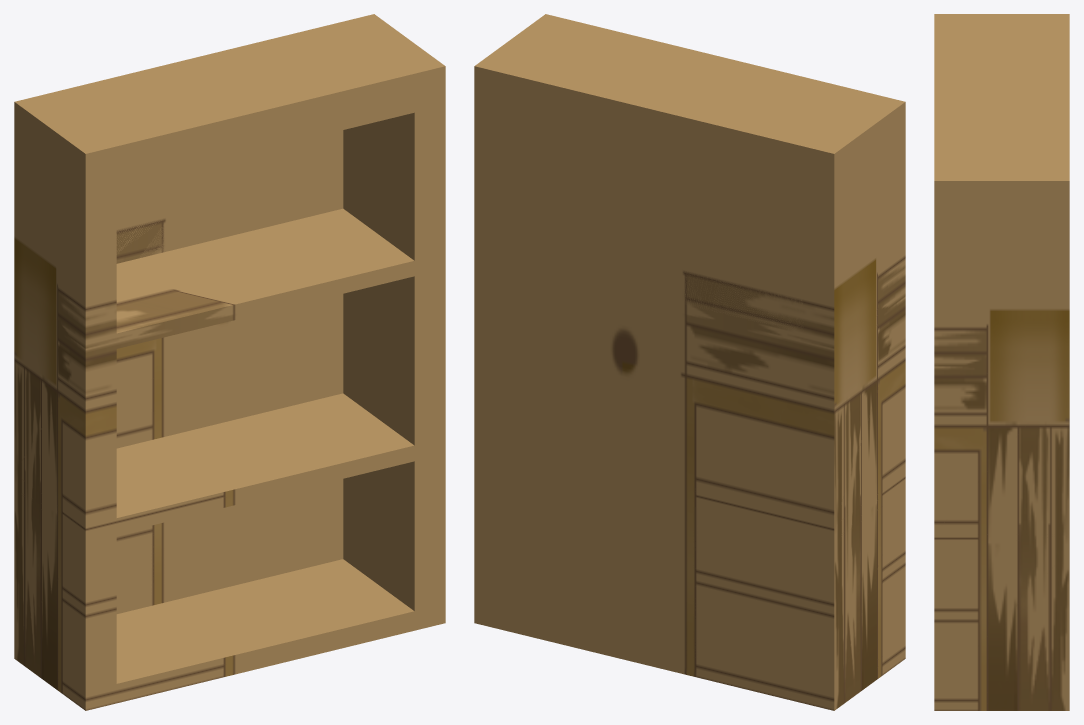
The model's file is bookshalf1.FBX.
3 views of the same model, side by side, from view 1: azimuth 30°, elevation 25°; view 2: azimuth 150°, elevation 25°; view 3: azimuth 270°, elevation 25° (orthographic). The views are drawn at different scales.
Parts seen in each view (by area): view 1: Object001; view 2: Object001; view 3: Object001.
Part boxes in pixels (box(x1,y1,x2,y2)): Object001: box(14, 14, 445, 710); Object001: box(474, 14, 905, 710); Object001: box(934, 14, 1069, 710).
Size of the model in its own units: 256 by 379 by 87.87.
